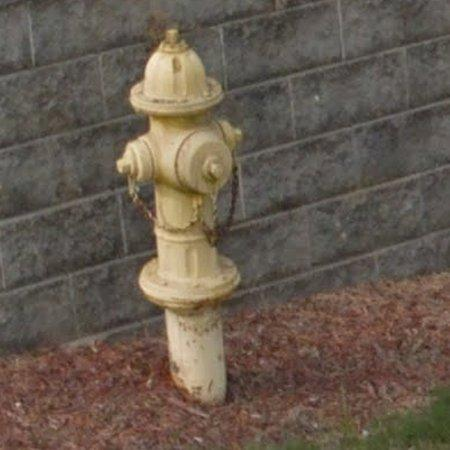a fire hydrant: (117, 29, 242, 405)
